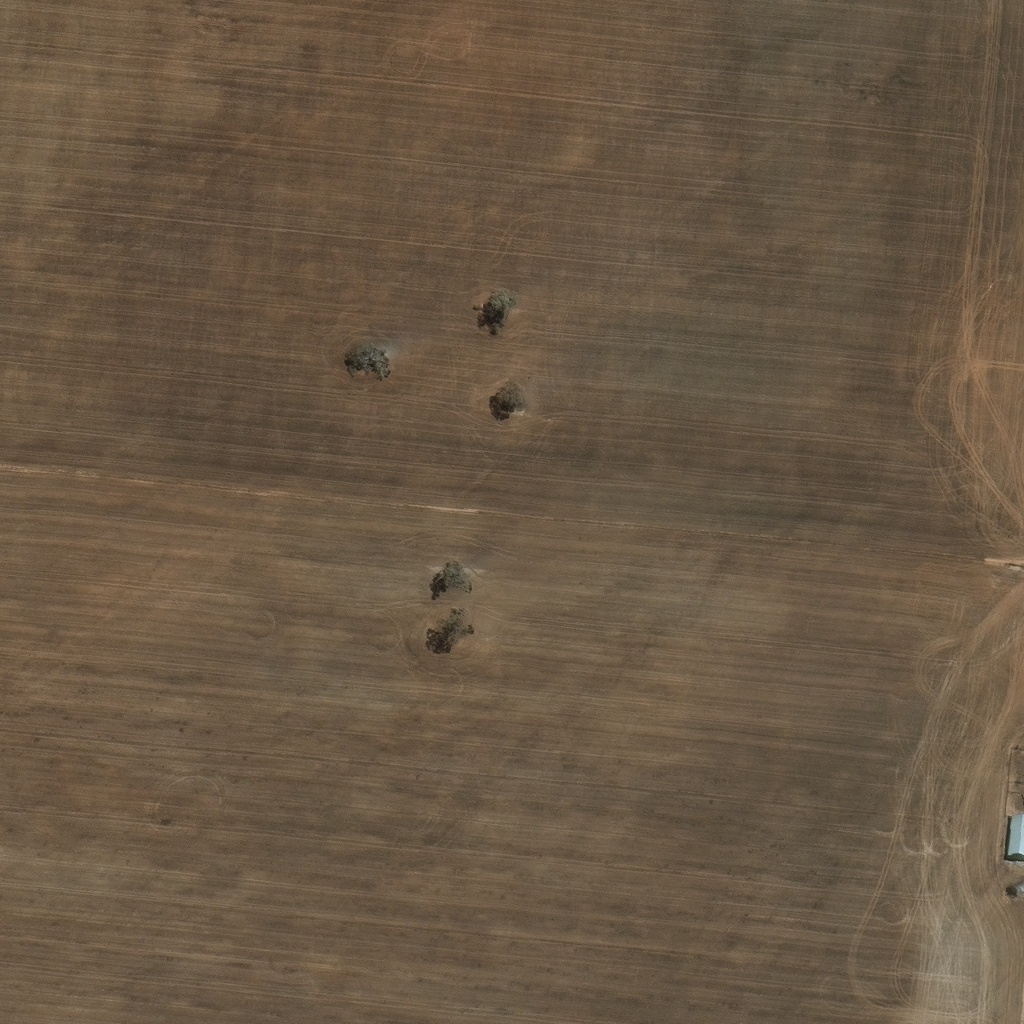0 no-damage: (1007, 812, 1023, 855)
4 un-classified: (930, 783, 943, 795)
